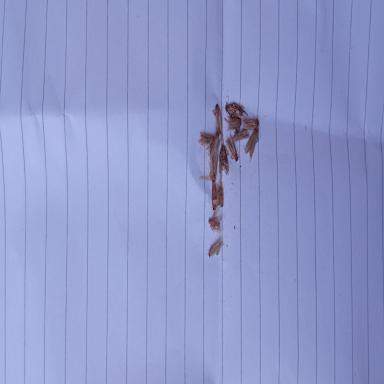pbw: (199, 146, 218, 184), (244, 127, 260, 163), (224, 133, 239, 166), (225, 95, 244, 120), (208, 203, 222, 234), (218, 137, 229, 176), (206, 237, 224, 259), (206, 181, 218, 211), (212, 103, 223, 135), (242, 112, 260, 130), (209, 131, 220, 160), (232, 128, 250, 142), (198, 131, 214, 146), (217, 174, 224, 208), (226, 118, 241, 131)
